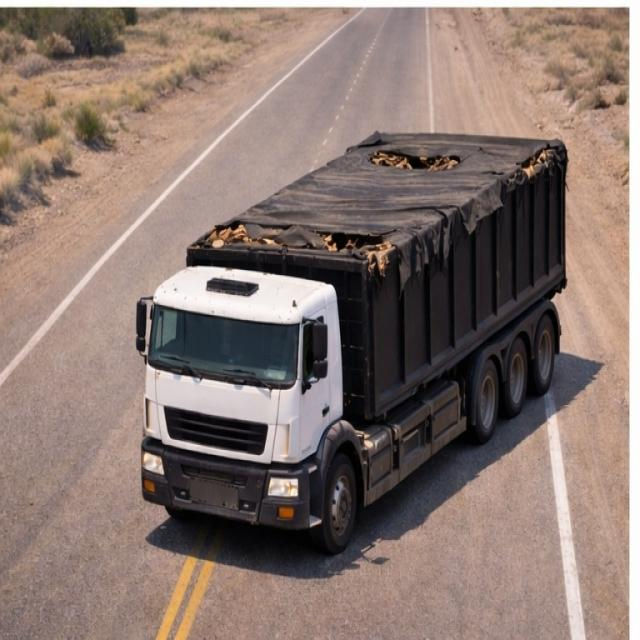trailer: (182, 133, 576, 250)
truck: (133, 120, 586, 552)
